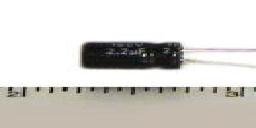Electrolytic-Capacitor: (78, 39, 256, 75)
